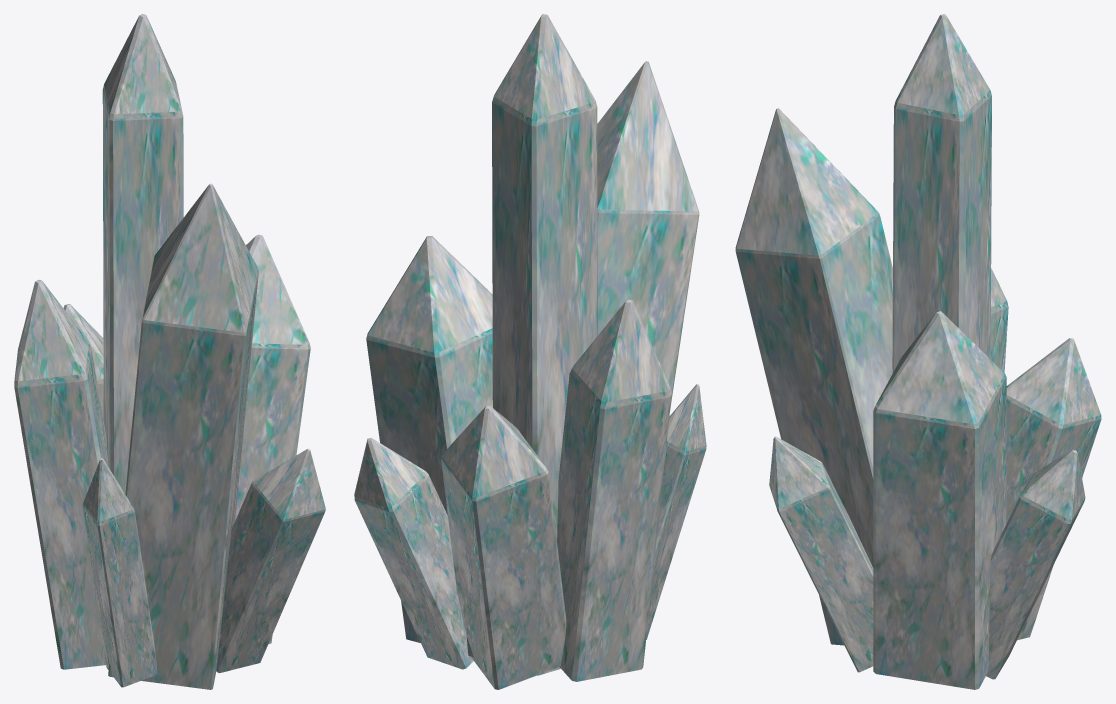
Rendered from celestial_prism_flipped.obj.
The picture shows the model from 3 angles, left to right: view 1: azimuth 30°, elevation 25°; view 2: azimuth 150°, elevation 25°; view 3: azimuth 270°, elevation 25°; orthographic projection. The views are drawn at different scales.
Parts seen in each view (by area): view 1: Crystal; view 2: Crystal; view 3: Crystal.
Part boxes in pixels (bbox=[...]): Crystal: bbox=[14, 14, 325, 689]; Crystal: bbox=[354, 14, 706, 689]; Crystal: bbox=[735, 14, 1101, 689].
Bounding box in the file's own units: 0.4406 × 0.9386 × 0.4997.
